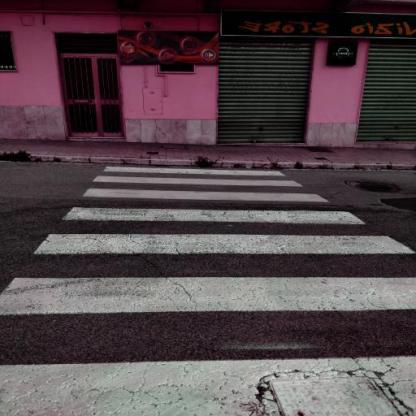crosswalk: (0, 229, 416, 323), (81, 174, 336, 204)
